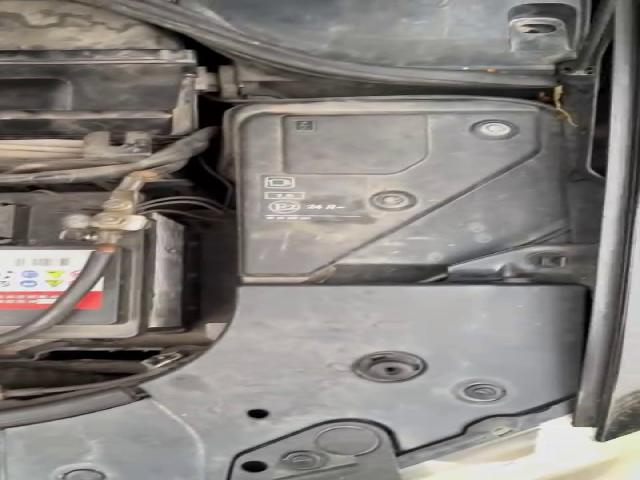accumulator: (2, 190, 206, 339)
fuse_box: (218, 95, 587, 282)
